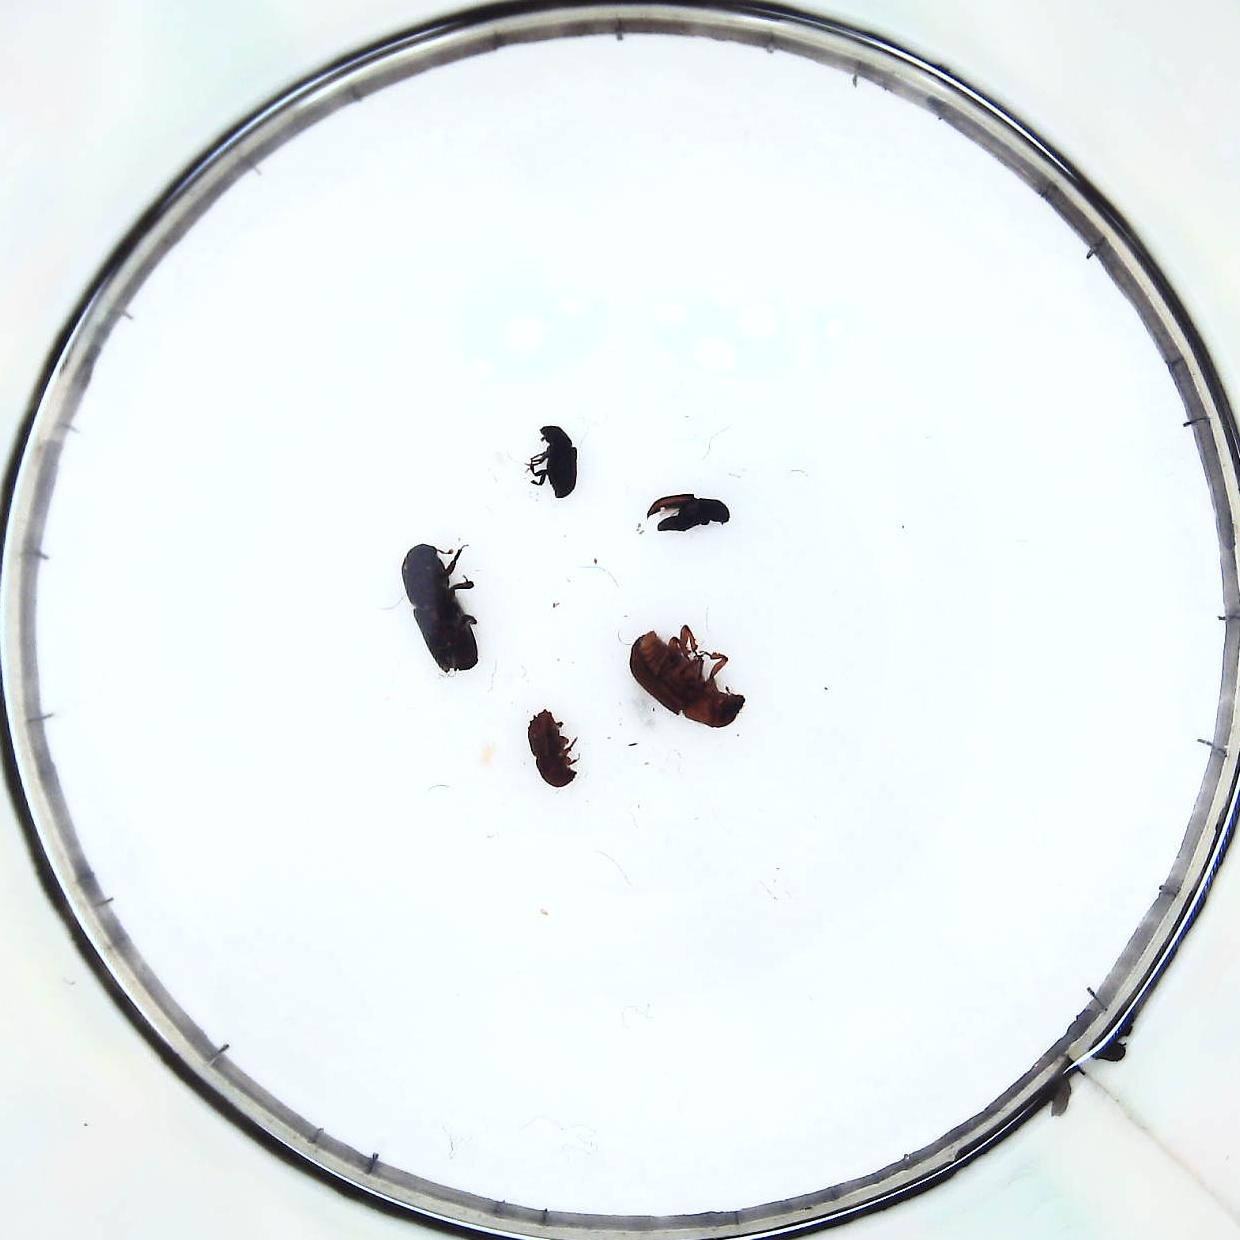Boerner: (405, 543, 484, 672)
Leconte: (626, 627, 749, 737)
Linnaeus: (523, 709, 578, 788)
armandi: (648, 491, 732, 541)
coleoptera: (530, 427, 583, 497)
